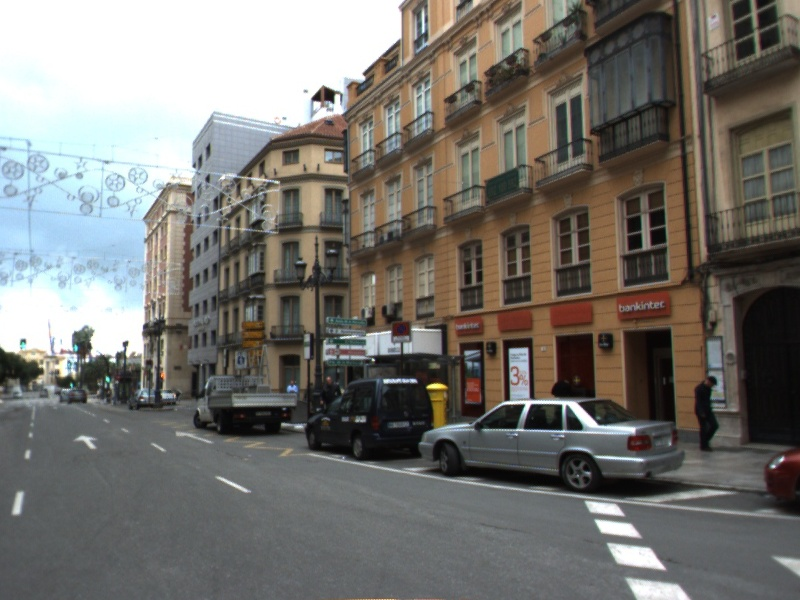STRAIGHT: (173, 428, 217, 446), (71, 432, 101, 452)
